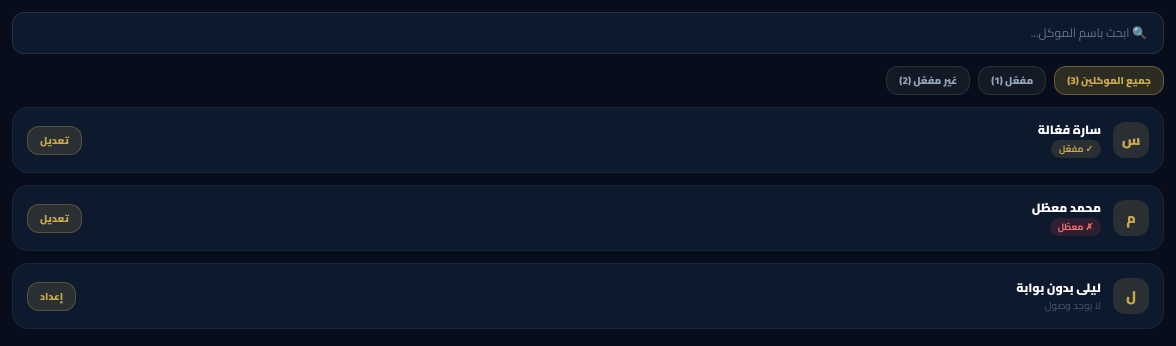
PortalSection — تابات الحالة (الكل / مفعّل / غير مفعّل) › الضغط على تاب "غير مفعّل" بيجمع المعطّل + اللي بدون إعداد مع بعض
Step 1. Click the button with test id "admin-portal-tab-inactive" → (928, 80), box [886,66,970,95]
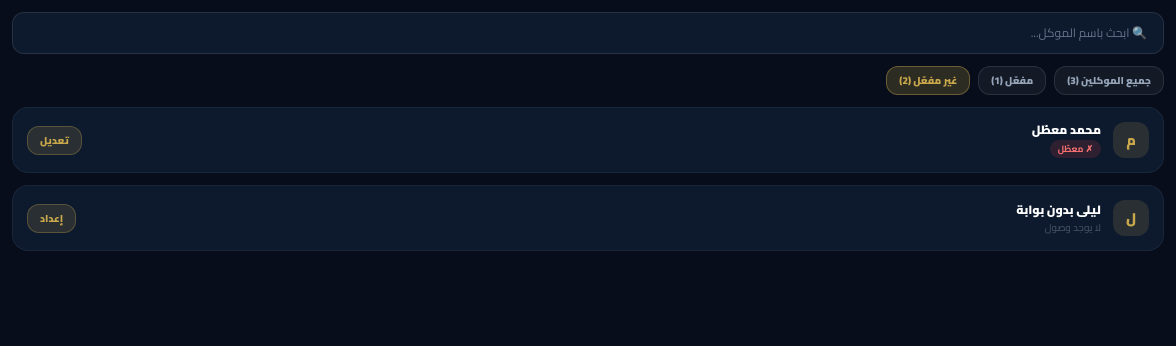
Expected: the text "✗ معطّل" is shown, [1050,140,1101,158]
Expected: the number of elements with test id "admin-portal-card" is 2, [12,107,1164,173]; [12,185,1164,251]
